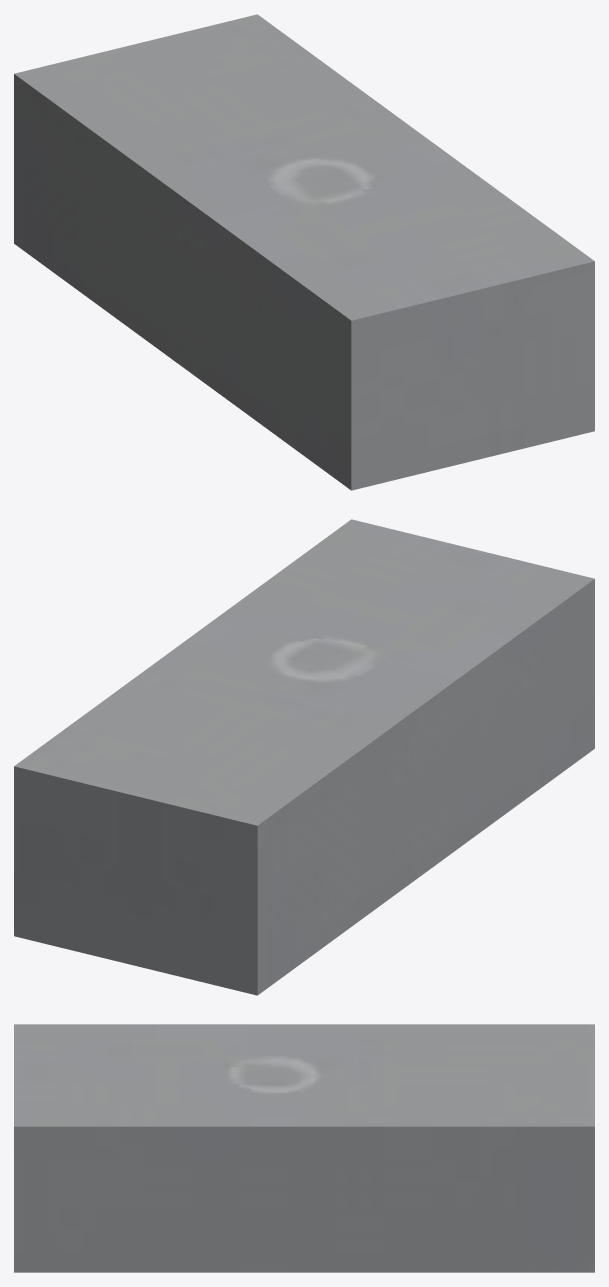
Rendered from frame__support_pivot_bracket_0.glb.
The picture shows the model from 3 angles, top to bottom: view 1: azimuth 30°, elevation 25°; view 2: azimuth 150°, elevation 25°; view 3: azimuth 270°, elevation 25°; orthographic projection. The views are drawn at different scales.
Parts seen in each view (by area): view 1: geometry_0; view 2: geometry_0; view 3: geometry_0.
Part boxes in pixels (x1,y1,x2,y2): geometry_0: (14, 14, 594, 490); geometry_0: (14, 519, 594, 995); geometry_0: (14, 1024, 594, 1272).
Bounding box in the file's own units: 0.075 × 0.05 × 0.18.
Materials: 1 (1 with a texture image).
